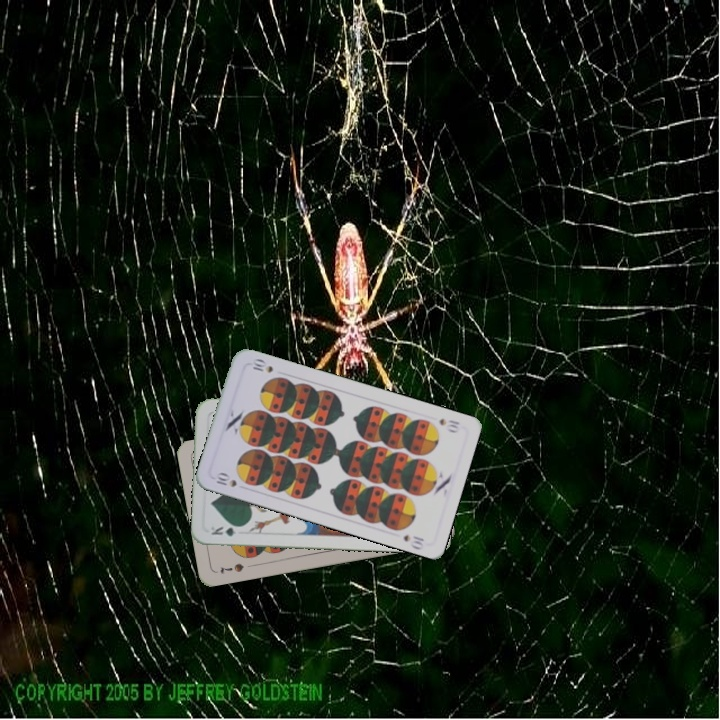GK: (207, 522, 246, 539)
S10: (211, 468, 239, 490), (435, 414, 462, 435)
S7: (216, 559, 247, 576)
